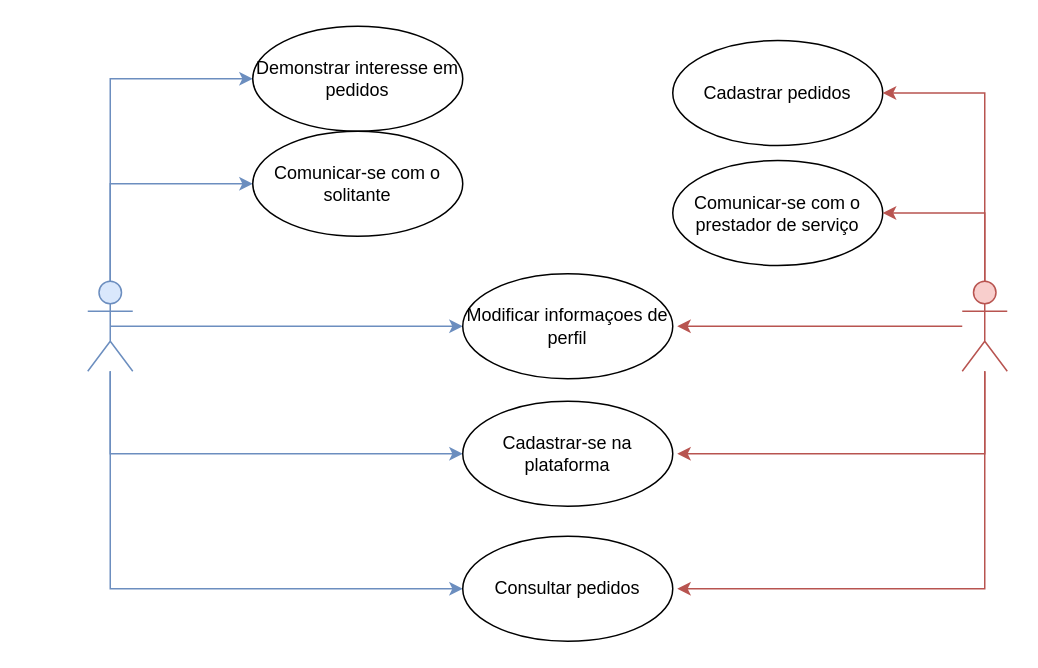
Some shapes in this 1038 by 668 pixel diagram are drawn without their labels. Each missing label, with the box of its shape:
Cliente: (961, 280, 1007, 371)
Prestador de Serviço: (86, 280, 133, 371)
